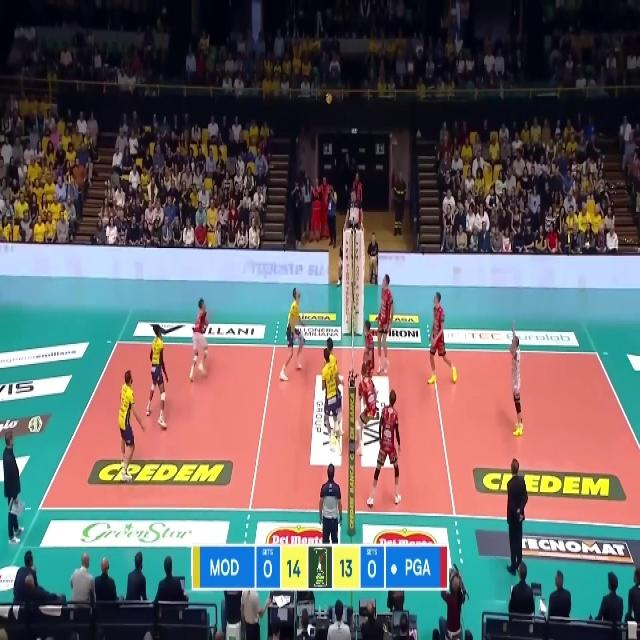volleyball court: (38, 339, 639, 524)
